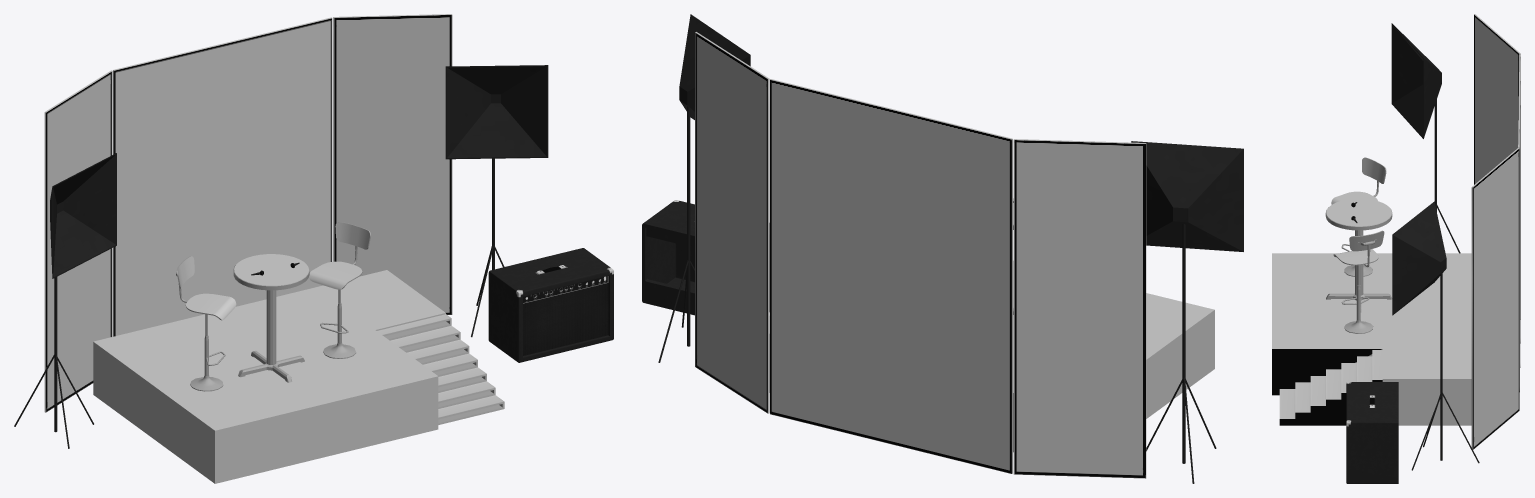
The model's file is Jasmy_Janction_Pavilion.fbx.
The picture shows the model from 3 angles, left to right: view 1: azimuth 30°, elevation 25°; view 2: azimuth 150°, elevation 25°; view 3: azimuth 270°, elevation 25°; orthographic projection. The views are drawn at different scales.
Parts seen in each view (by area): view 1: Backdrop, Small_Stage, Panel1, polySurface6, Chair_6, Mic7; view 2: Backdrop, Mic7, Small_Stage, Panel1, polySurface6; view 3: Small_Stage, Backdrop, Panel1, polySurface6, Chair_6, Mic7.
Boxes of the visible parts, x1,y1,x2,y2 form: Backdrop: (44,14,452,412); Small_Stage: (93,270,504,483); Panel1: (488,248,613,362); polySurface6: (445,65,548,337); Chair_6: (176,222,370,391); Mic7: (14,153,116,448); Backdrop: (695,32,1146,478); Mic7: (1131,141,1243,483); Small_Stage: (769,260,1214,452); Panel1: (642,200,769,315); polySurface6: (658,14,750,362); Small_Stage: (1272,253,1471,425); Backdrop: (1471,14,1520,449); Panel1: (1346,382,1398,483); polySurface6: (1392,201,1479,470); Chair_6: (1325,157,1392,333); Mic7: (1391,23,1460,253).
Size of the model in its own units: 523 by 281 by 240.
